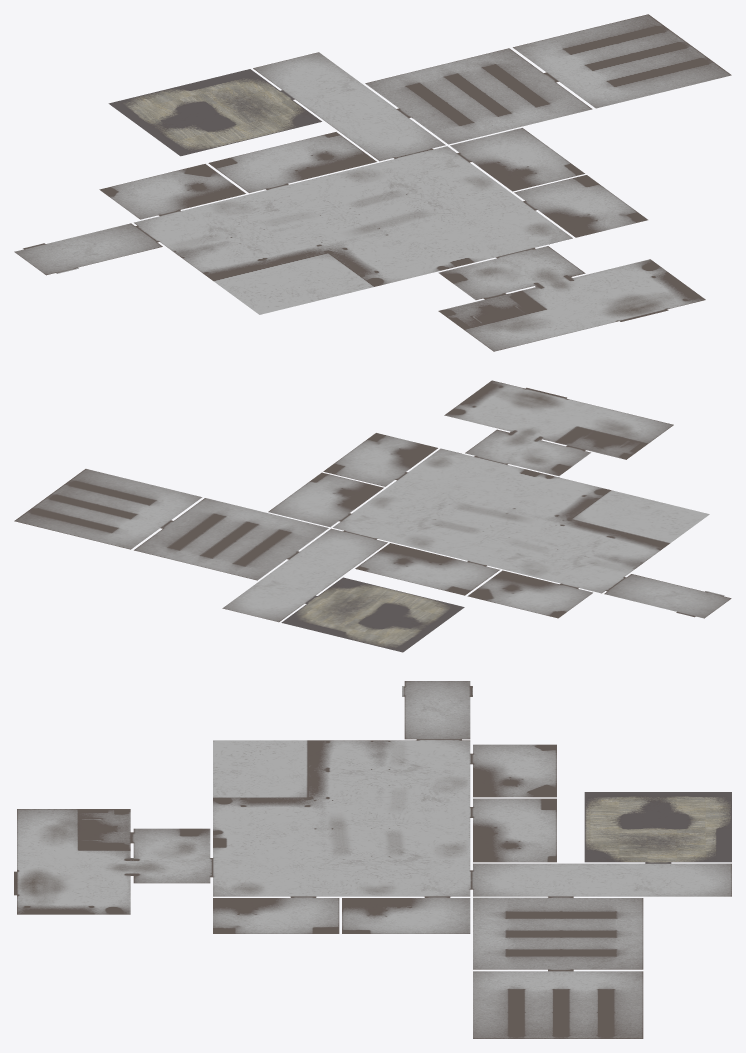
File: FLOOR_Razdel.fbx
3 views of the same model, one above another, from view 1: azimuth 30°, elevation 25°; view 2: azimuth 150°, elevation 25°; view 3: azimuth 270°, elevation 25° (orthographic). The views are drawn at different scales.
Visible parts, largest first — view 1: hall, Archive, coridor, SecrArchive, Boss, BossCoridor, MyCabinet, Lebedev, noName, noName1, coffeeHall, CoridorLowerHall; view 2: hall, Archive, coridor, SecrArchive, Boss, BossCoridor, MyCabinet, Lebedev, noName, noName1, coffeeHall, CoridorLowerHall; view 3: hall, Archive, coridor, SecrArchive, Boss, BossCoridor, MyCabinet, Lebedev, noName, noName1, coffeeHall, CoridorLowerHall.
Boxes of the visible parts, bbox=[...] form: hall: bbox=[134, 146, 572, 314]; Archive: bbox=[365, 48, 592, 144]; coridor: bbox=[438, 259, 705, 351]; SecrArchive: bbox=[513, 14, 731, 108]; Boss: bbox=[108, 69, 321, 156]; BossCoridor: bbox=[253, 52, 445, 161]; MyCabinet: bbox=[208, 132, 376, 192]; Lebedev: bbox=[450, 128, 584, 191]; noName: bbox=[514, 175, 647, 237]; noName1: bbox=[99, 164, 245, 219]; coffeeHall: bbox=[438, 246, 585, 299]; CoridorLowerHall: bbox=[14, 223, 162, 275]; hall: bbox=[333, 448, 709, 593]; Archive: bbox=[134, 498, 328, 580]; coridor: bbox=[444, 380, 673, 459]; SecrArchive: bbox=[14, 469, 202, 549]; Boss: bbox=[281, 577, 464, 652]; BossCoridor: bbox=[222, 528, 387, 622]; MyCabinet: bbox=[355, 543, 499, 595]; Lebedev: bbox=[268, 472, 383, 527]; noName: bbox=[323, 433, 437, 486]; noName1: bbox=[467, 570, 592, 618]; coffeeHall: bbox=[465, 429, 590, 475]; CoridorLowerHall: bbox=[604, 574, 731, 618]; hall: bbox=[213, 740, 470, 896]; Archive: bbox=[473, 898, 643, 969]; coridor: bbox=[17, 809, 130, 914]; SecrArchive: bbox=[473, 971, 643, 1038]; Boss: bbox=[584, 792, 731, 862]; BossCoridor: bbox=[473, 863, 731, 897]; MyCabinet: bbox=[473, 798, 556, 862]; Lebedev: bbox=[342, 898, 470, 933]; noName: bbox=[213, 898, 339, 933]; noName1: bbox=[473, 744, 556, 797]; coffeeHall: bbox=[133, 828, 210, 883]; CoridorLowerHall: bbox=[404, 681, 470, 739].
Size of the model in its own units: 38.66 by 0.011 by 32.77.
